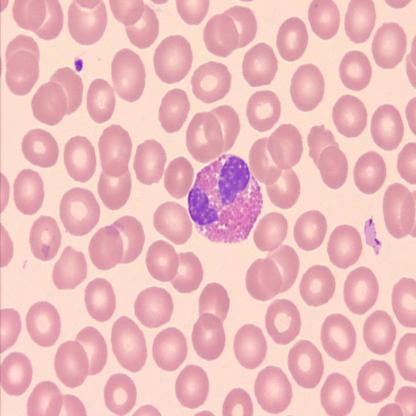Eosinophil: (188, 152, 264, 245)
